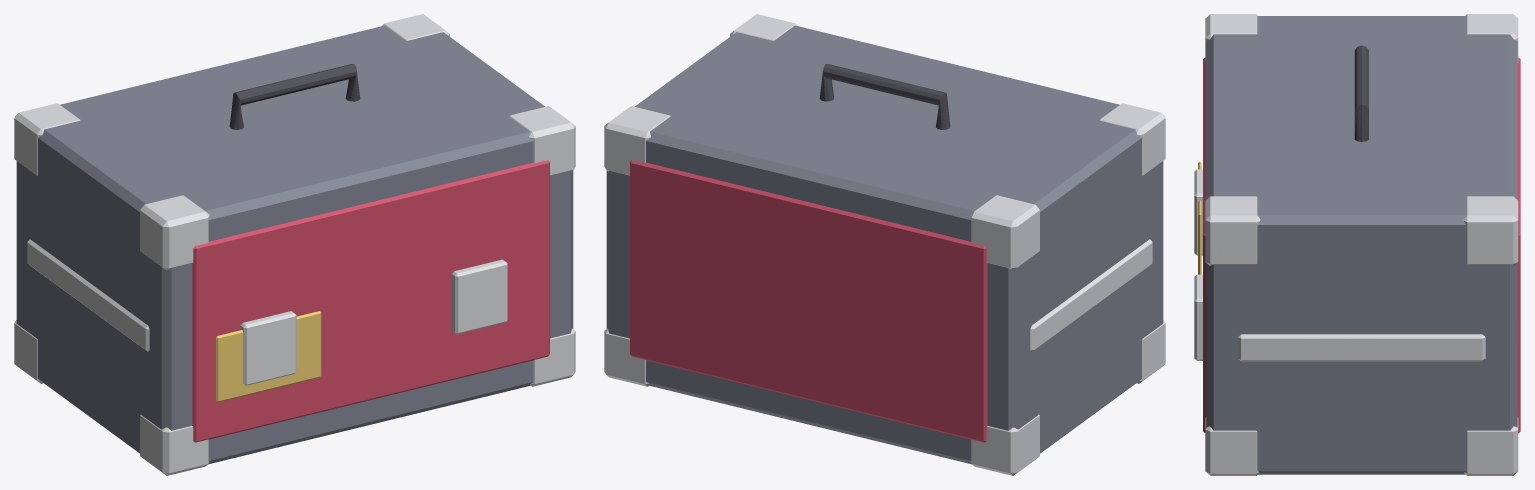
The model's file is cinema-multiplex-and-foyer-spare-lamp-case-9f73b1ff.glb.
The picture shows the model from 3 angles, left to right: view 1: azimuth 30°, elevation 25°; view 2: azimuth 150°, elevation 25°; view 3: azimuth 270°, elevation 25°; orthographic projection. The views are drawn at different scales.
Parts seen in each view (by area): view 1: spare-lamp-case; view 2: spare-lamp-case; view 3: spare-lamp-case.
Boxes of the visible parts, x1,y1,x2,y2 form: spare-lamp-case: (14, 14, 575, 475); spare-lamp-case: (604, 14, 1165, 475); spare-lamp-case: (1194, 14, 1520, 475).
Size of the model in its own units: 0.79 by 0.5317 by 0.524.
